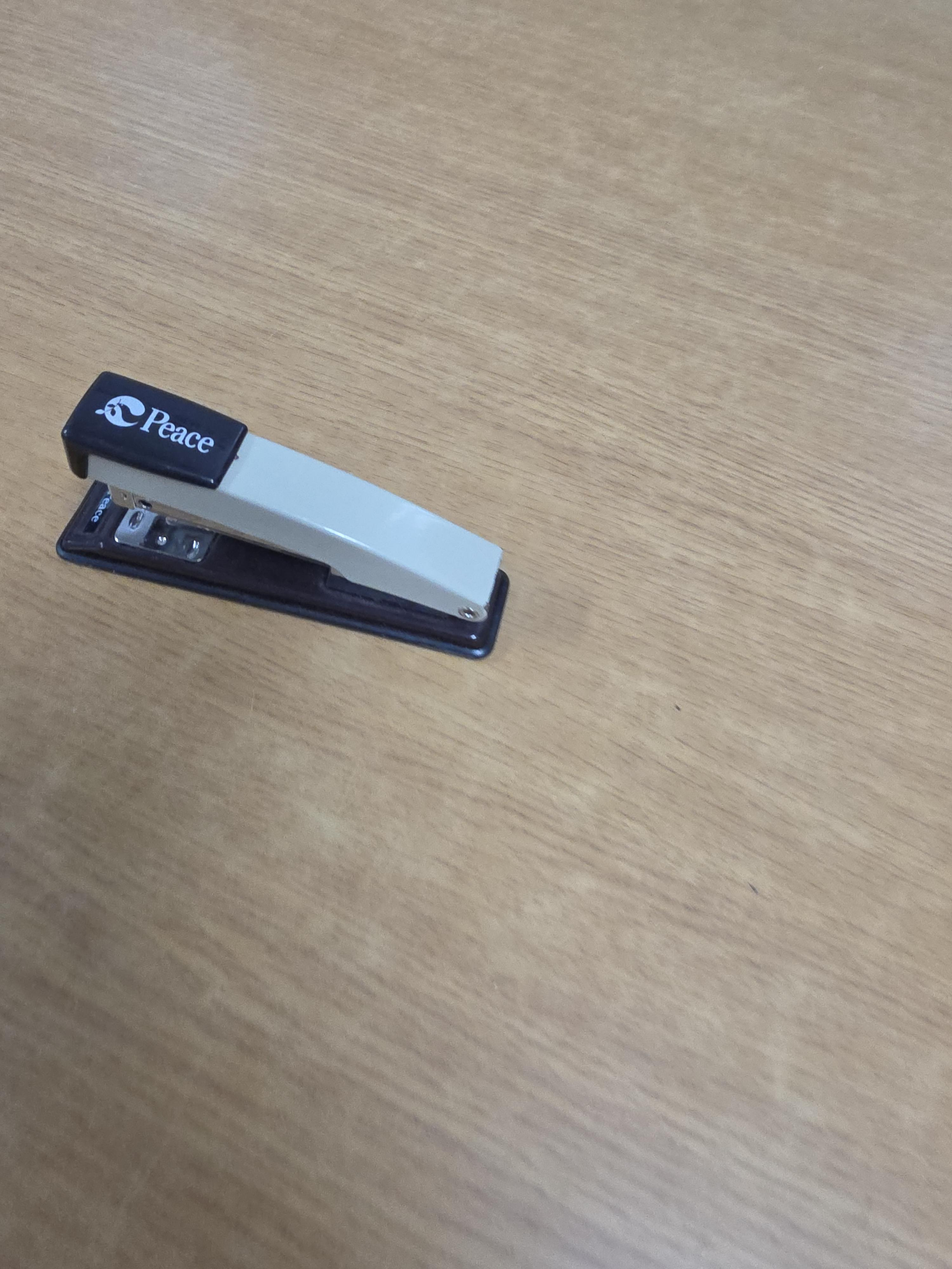stapler: (56, 371, 510, 660)
